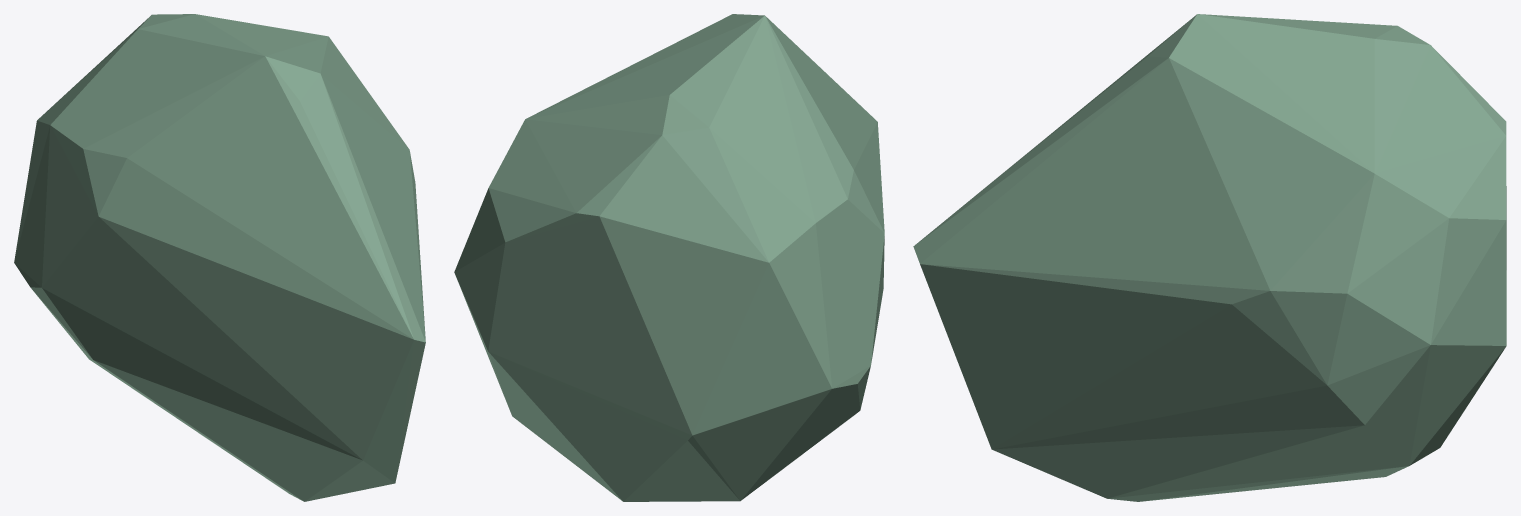
File: kitchenware_kettle_i01.glb
The picture shows the model from 3 angles, left to right: view 1: azimuth 30°, elevation 25°; view 2: azimuth 150°, elevation 25°; view 3: azimuth 270°, elevation 25°; orthographic projection. The views are drawn at different scales.
Visible parts, largest first — view 1: geometry_0; view 2: geometry_0; view 3: geometry_0.
Part boxes in pixels (bbox=[...]): geometry_0: bbox=[14, 14, 425, 501]; geometry_0: bbox=[454, 14, 884, 501]; geometry_0: bbox=[913, 14, 1506, 501].
Bounding box in the file's own units: 0.368 × 0.4181 × 0.4796.
